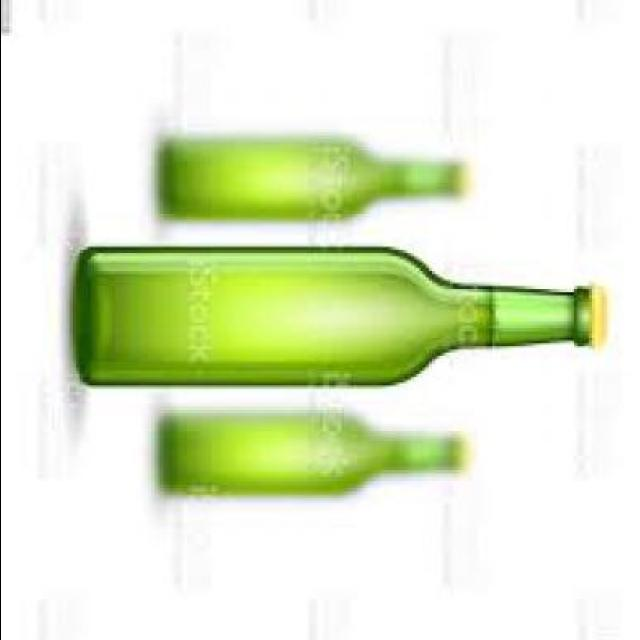kaca: (82, 245, 606, 384), (163, 409, 467, 492), (162, 139, 464, 217)
